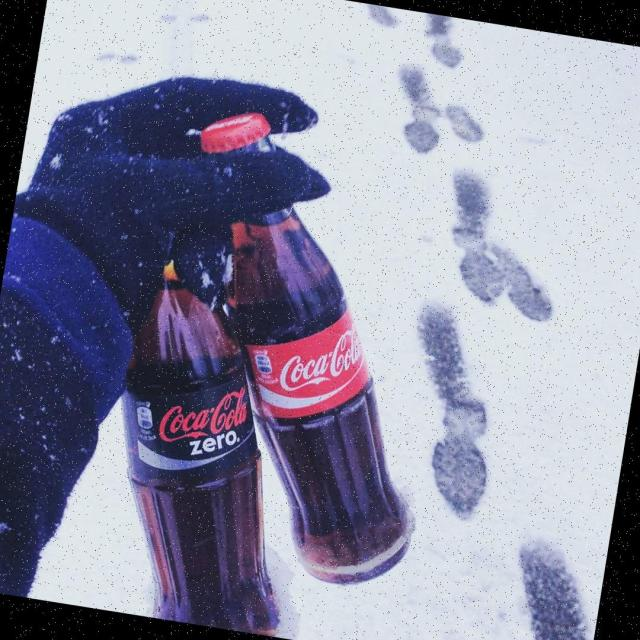coca-cola: (135, 96, 478, 599), (61, 221, 352, 640)
